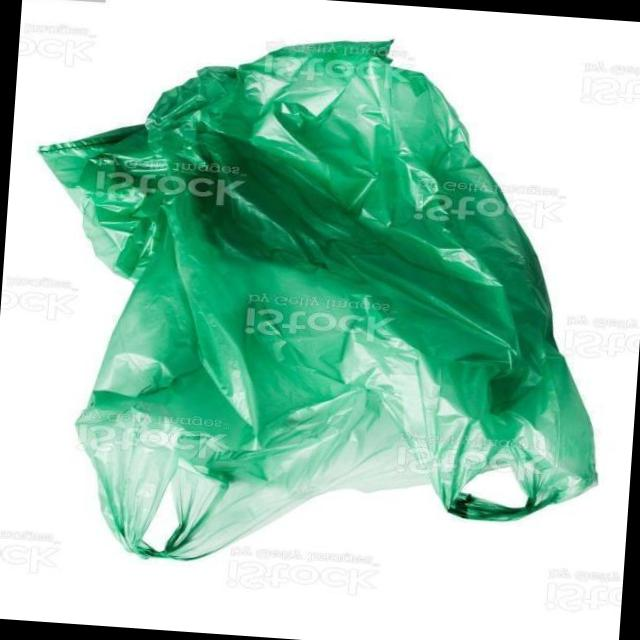KantongPlastik: (8, 15, 628, 592)
